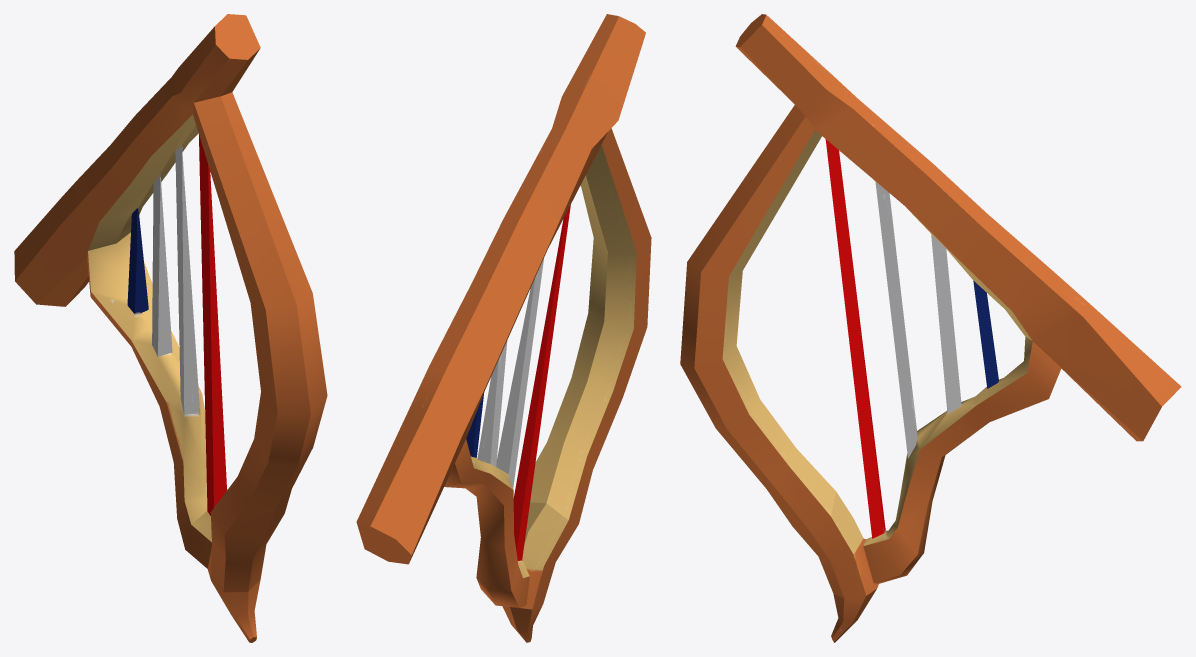
Rendered from Arpa3_000006.obj.
The picture shows the model from 3 angles, left to right: view 1: azimuth 30°, elevation 25°; view 2: azimuth 150°, elevation 25°; view 3: azimuth 270°, elevation 25°; orthographic projection. The views are drawn at different scales.
Parts seen in each view (by area): view 1: a3_Arpa_1:pCube6; view 2: a3_Arpa_1:pCube6; view 3: a3_Arpa_1:pCube6.
Boxes of the visible parts, x1,y1,x2,y2 form: a3_Arpa_1:pCube6: [14, 14, 327, 642]; a3_Arpa_1:pCube6: [356, 14, 651, 642]; a3_Arpa_1:pCube6: [680, 14, 1181, 642].
Bounding box in the file's own units: 1.56 × 9.63 × 7.28.
